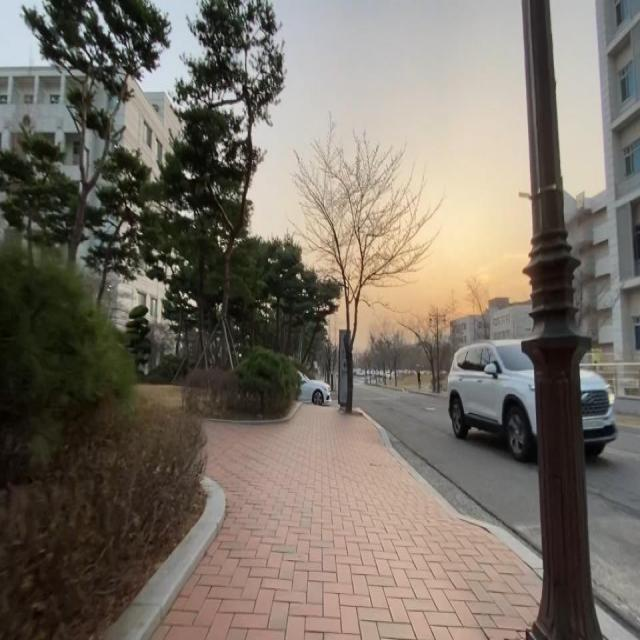sidewalk: (151, 404, 544, 640), (595, 604, 640, 640), (617, 414, 640, 427)
